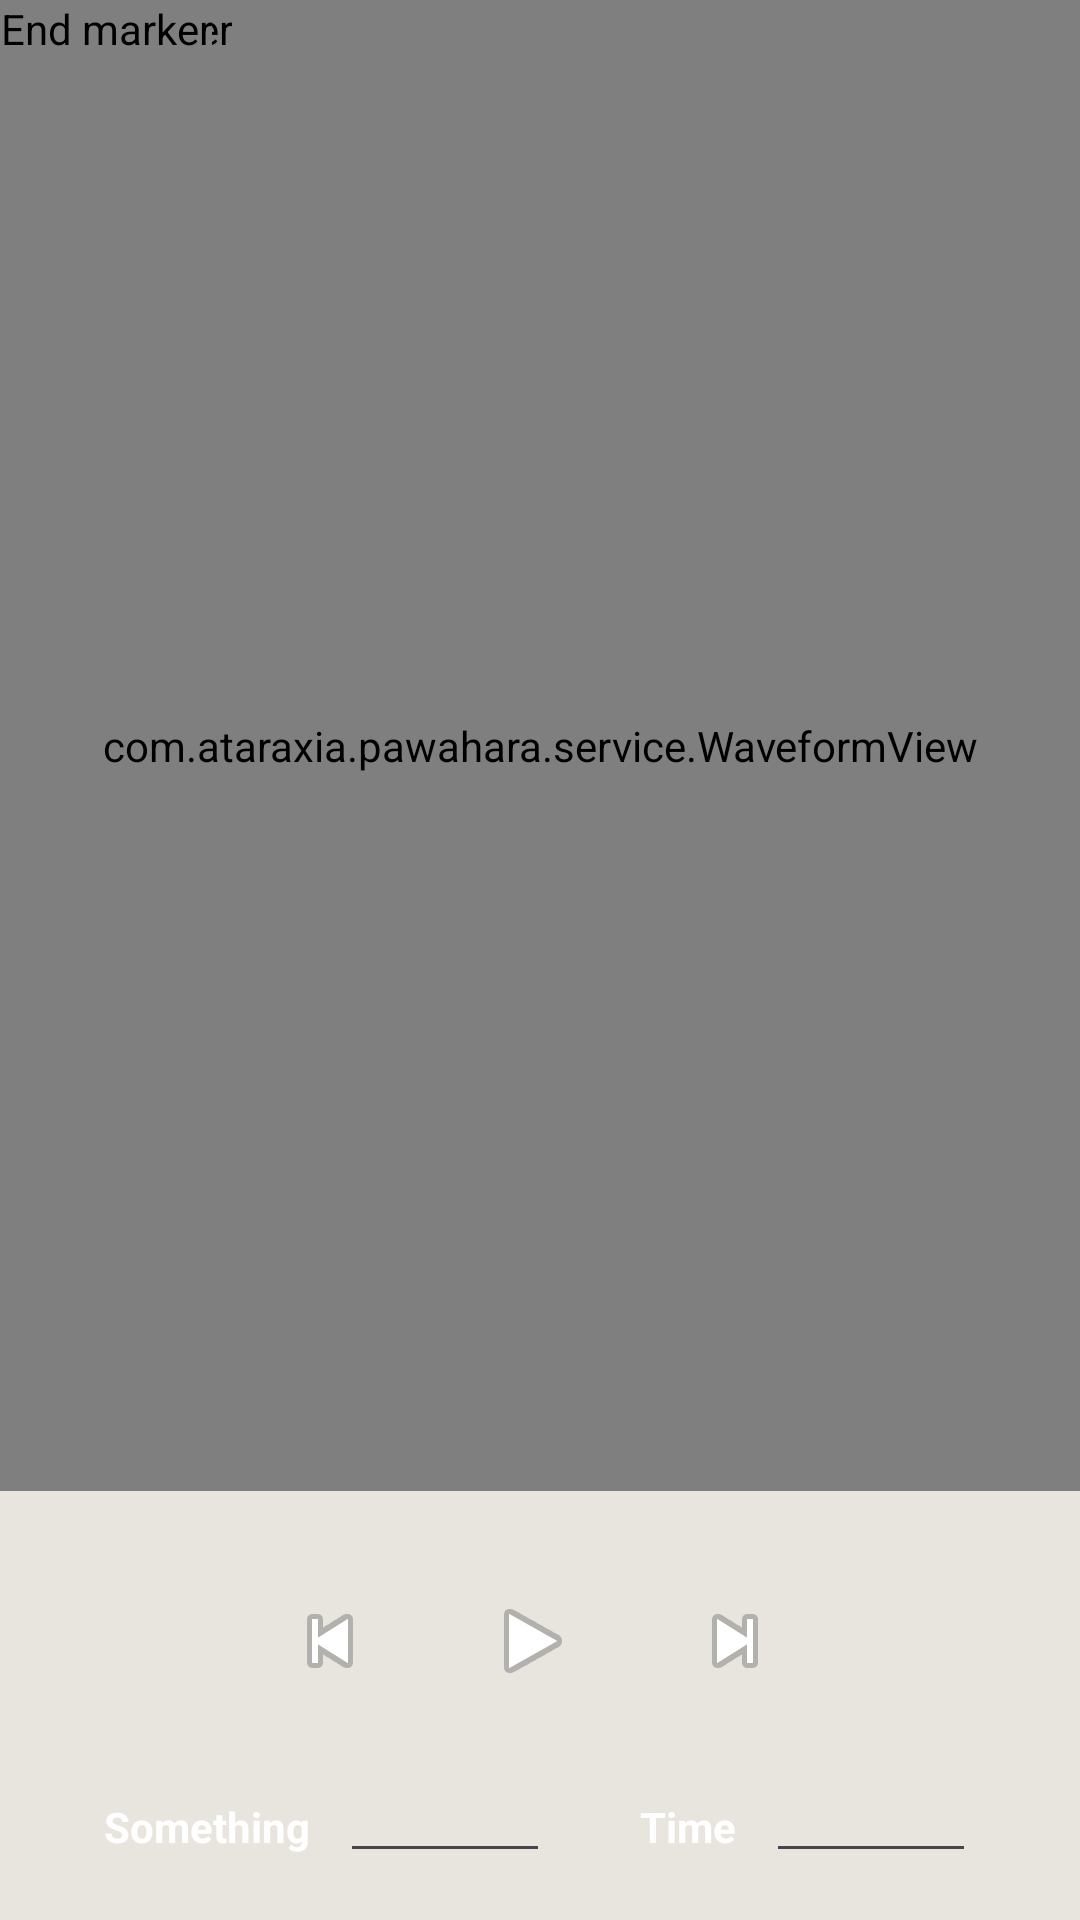

Screen size 1080w x 1920h. Icon name, then its center in pixels as point (x, y):
next: point (735, 1641)
play: point (533, 1641)
rewind: point (330, 1641)
